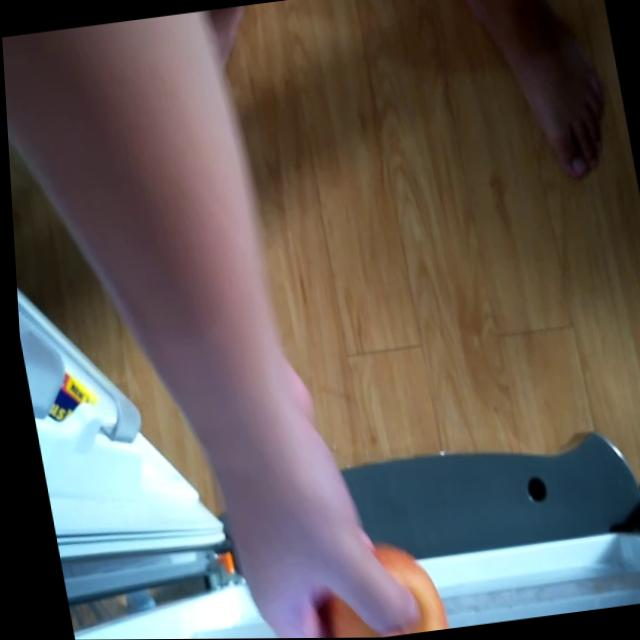apple: (312, 536, 440, 638)
